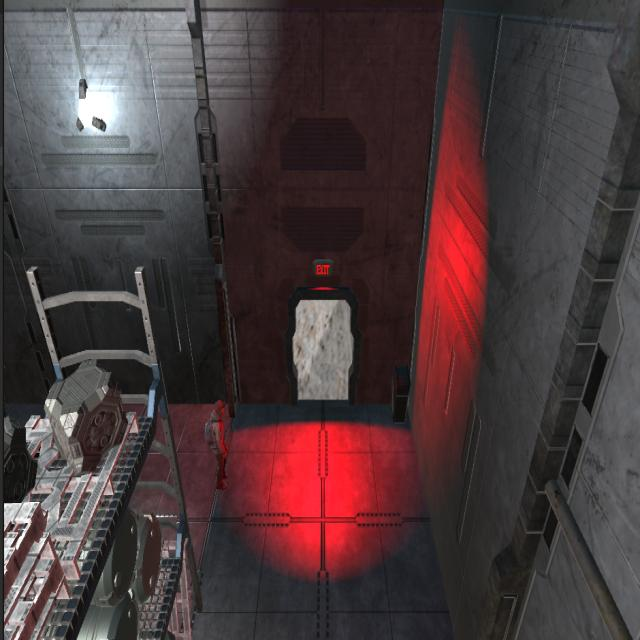thiefs: (203, 395, 232, 494)
